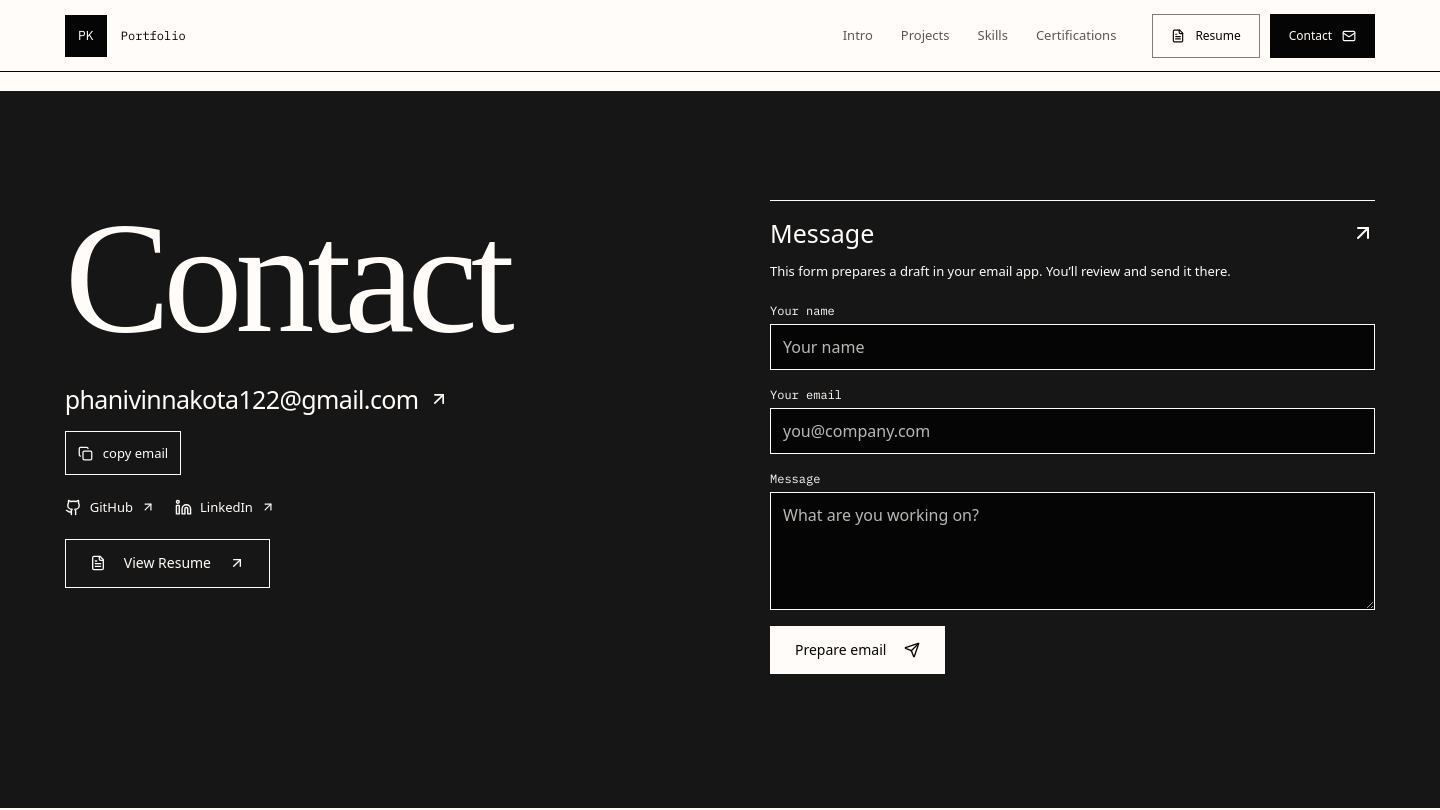
Test: portfolio experience › reports when copying is not available
The width and height of the screenshot is (1440, 810).
(page scrolled)
What coordinates should you click on to do the following:
click the button "copy email"
I would click on:
 (123, 453)
Its box is [65,431,181,475].
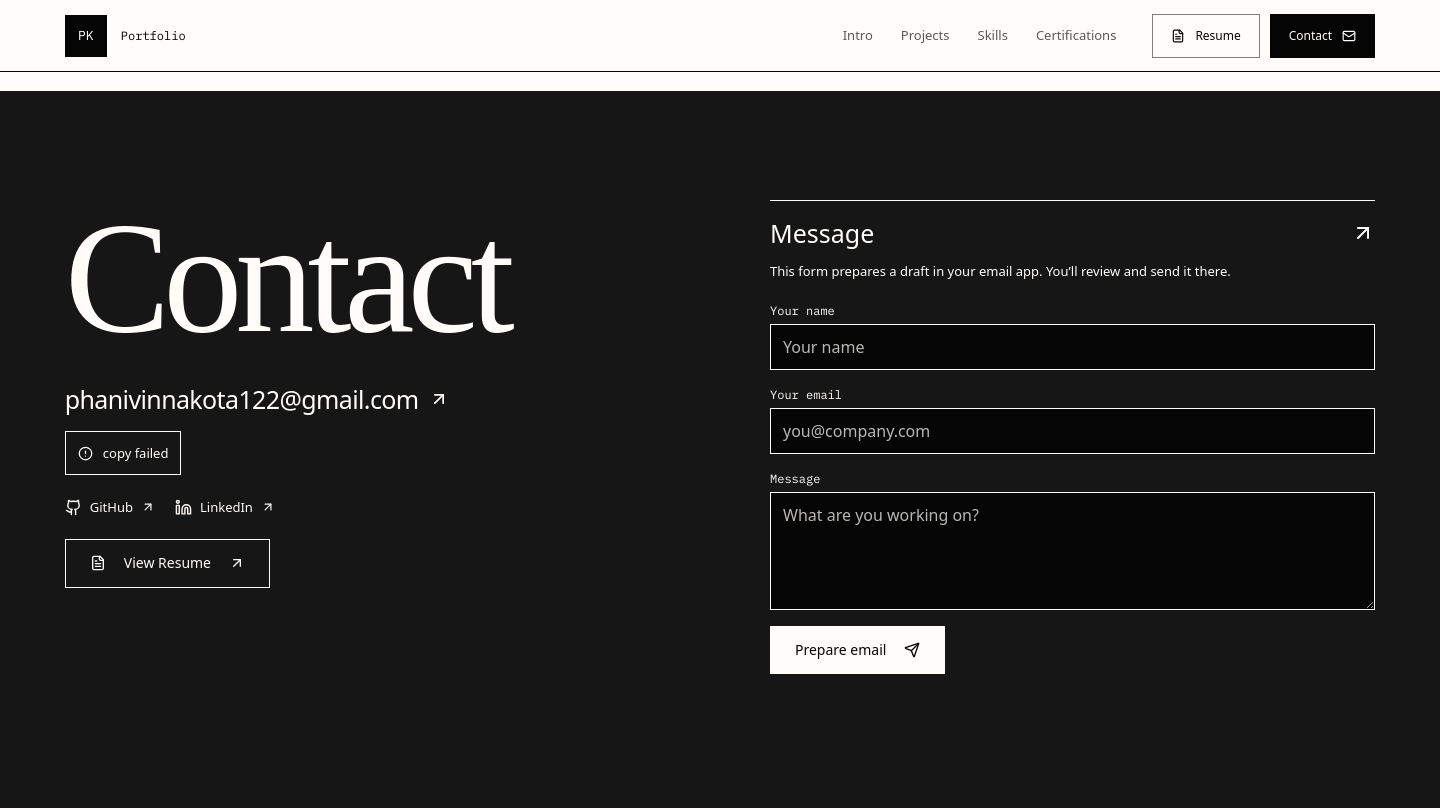
Expected: the button "copy failed" is shown, [65,431,182,475]
